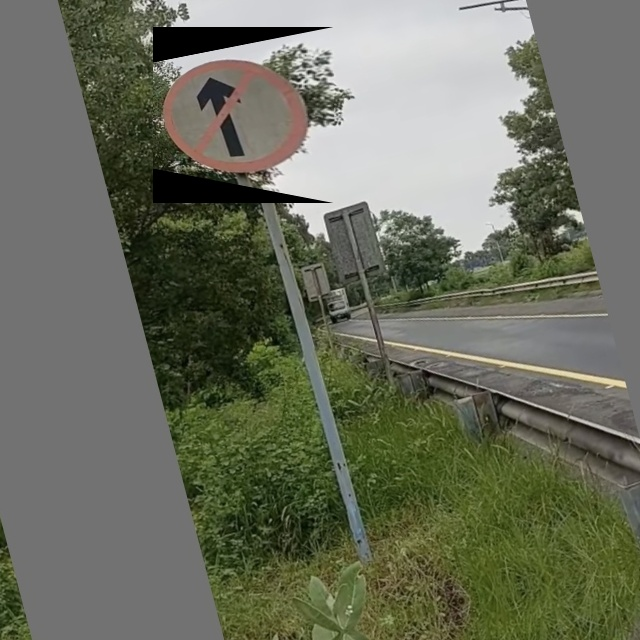No_Entry: (153, 27, 334, 203)
